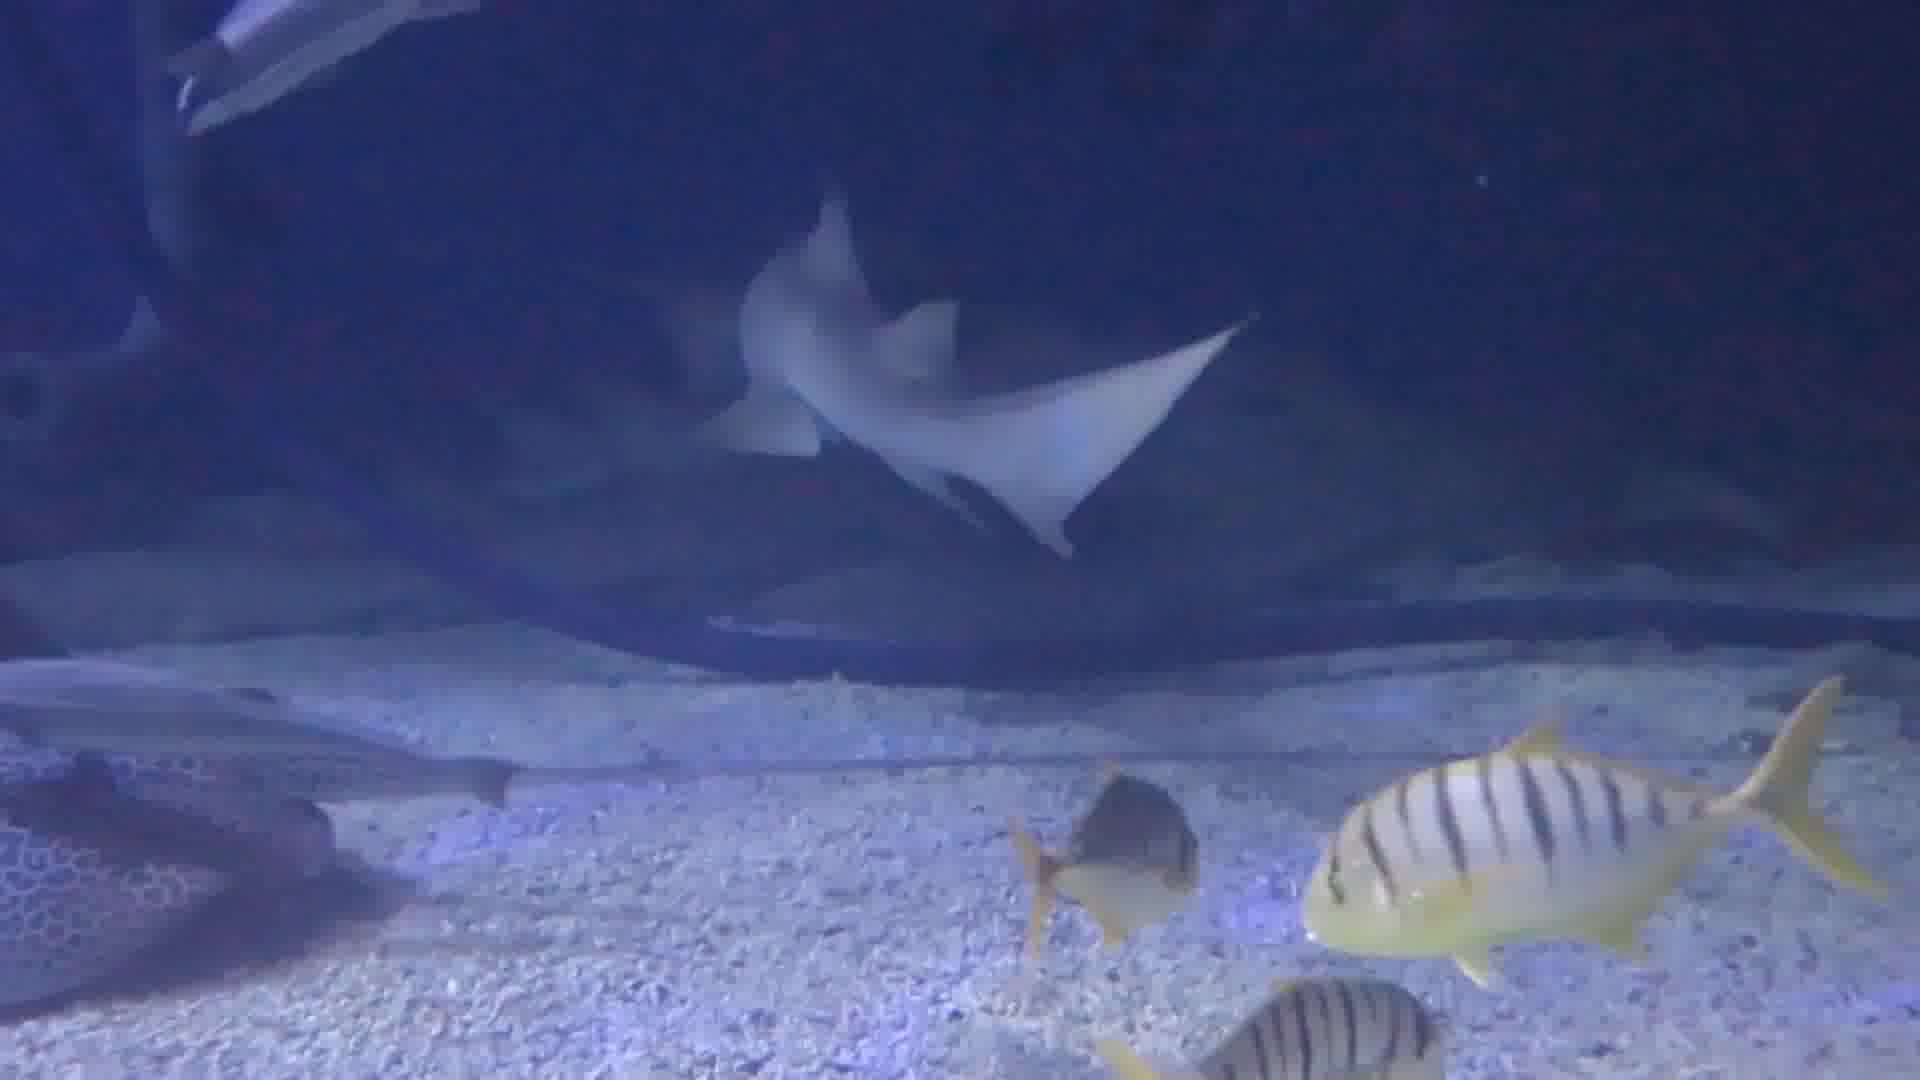Nebrius ferrugineus: (705, 204, 1102, 531)
